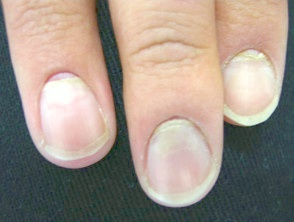SJS-TEN: (111, 86, 248, 222), (4, 51, 137, 181), (214, 23, 294, 136)
